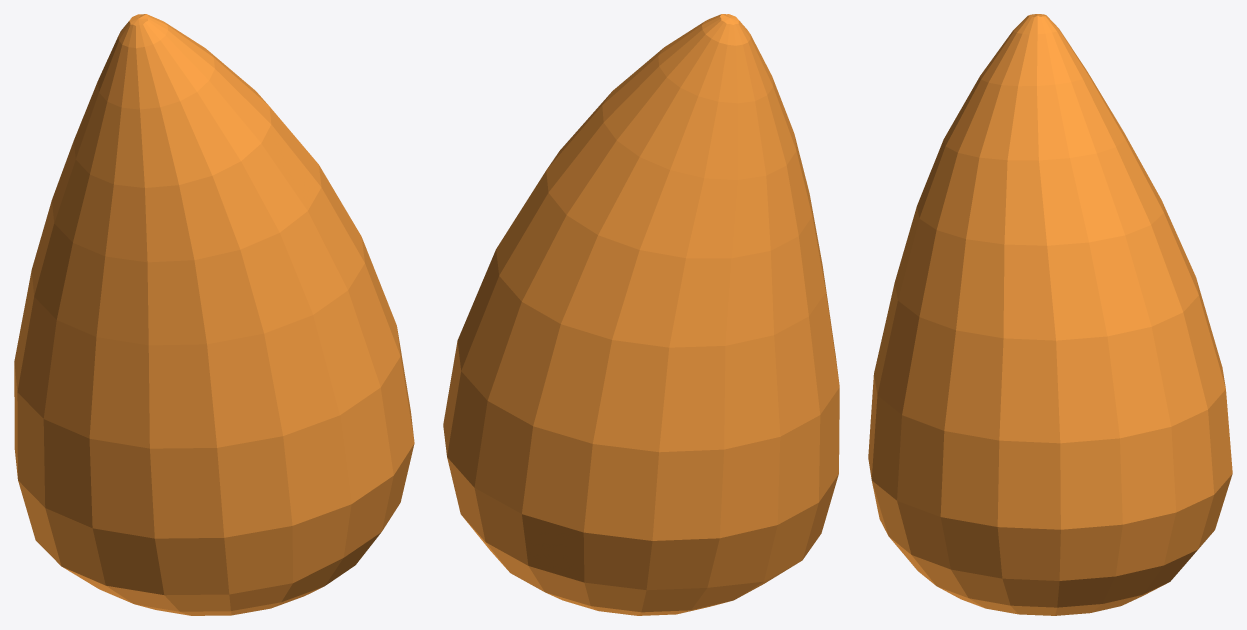
The model's file is VelaFogo.fbx.
3 views of the same model, side by side, from view 1: azimuth 30°, elevation 25°; view 2: azimuth 150°, elevation 25°; view 3: azimuth 270°, elevation 25° (orthographic). The views are drawn at different scales.
Parts seen in each view (by area): view 1: polySurface1; view 2: polySurface1; view 3: polySurface1.
Part boxes in pixels (x1,y1,x2,y2): polySurface1: (14, 14, 414, 615); polySurface1: (443, 14, 839, 615); polySurface1: (868, 14, 1232, 615).
Size of the model in its own units: 0.145 by 0.2321 by 0.1423.
Materials: 1 (1 with a texture image).
